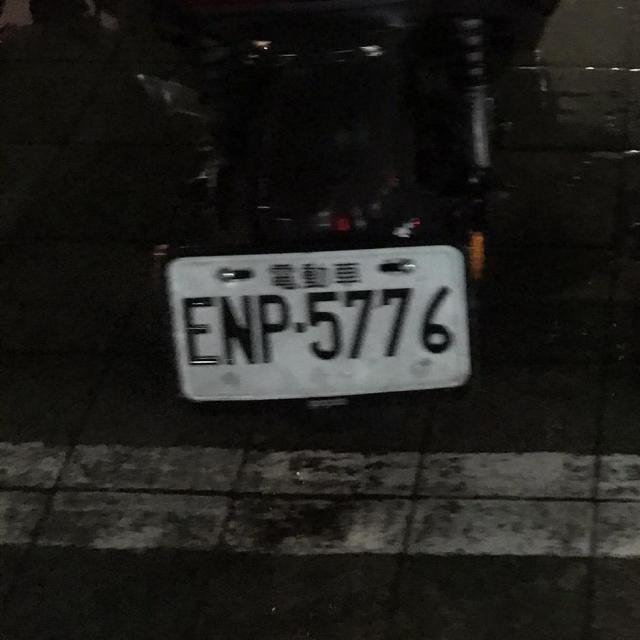W: (166, 243, 474, 407)
